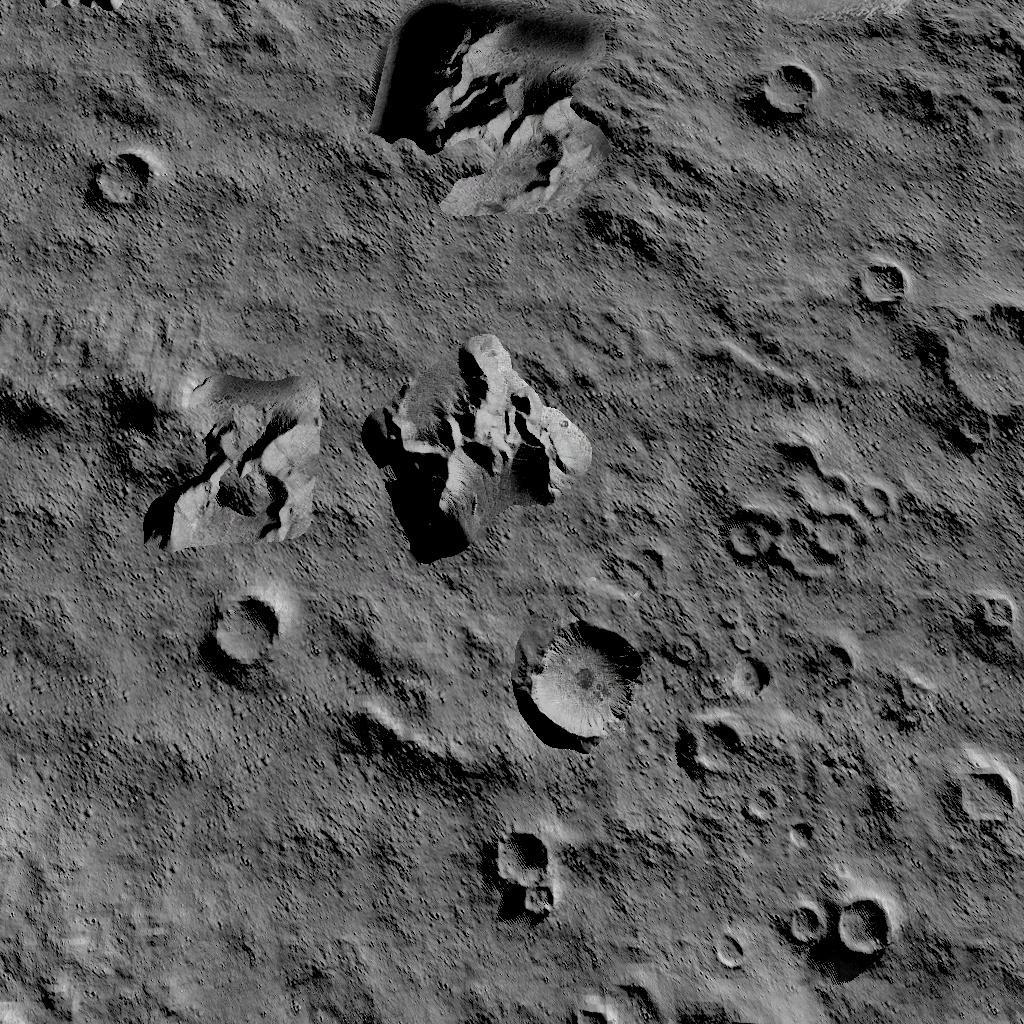Boulders: (0, 300, 328, 554), (368, 0, 628, 219), (358, 330, 600, 564), (872, 0, 1024, 144), (329, 696, 510, 800), (28, 0, 144, 35)
Crater: (699, 422, 905, 594), (518, 624, 650, 760), (564, 970, 836, 1024), (185, 580, 307, 700), (925, 294, 1024, 438), (775, 878, 897, 967), (477, 820, 569, 935), (76, 142, 178, 218), (942, 754, 1024, 844), (668, 706, 754, 788), (745, 54, 822, 138), (956, 570, 1024, 654), (836, 242, 908, 318)
Plan surface: (0, 570, 179, 1022), (196, 814, 464, 1024)
